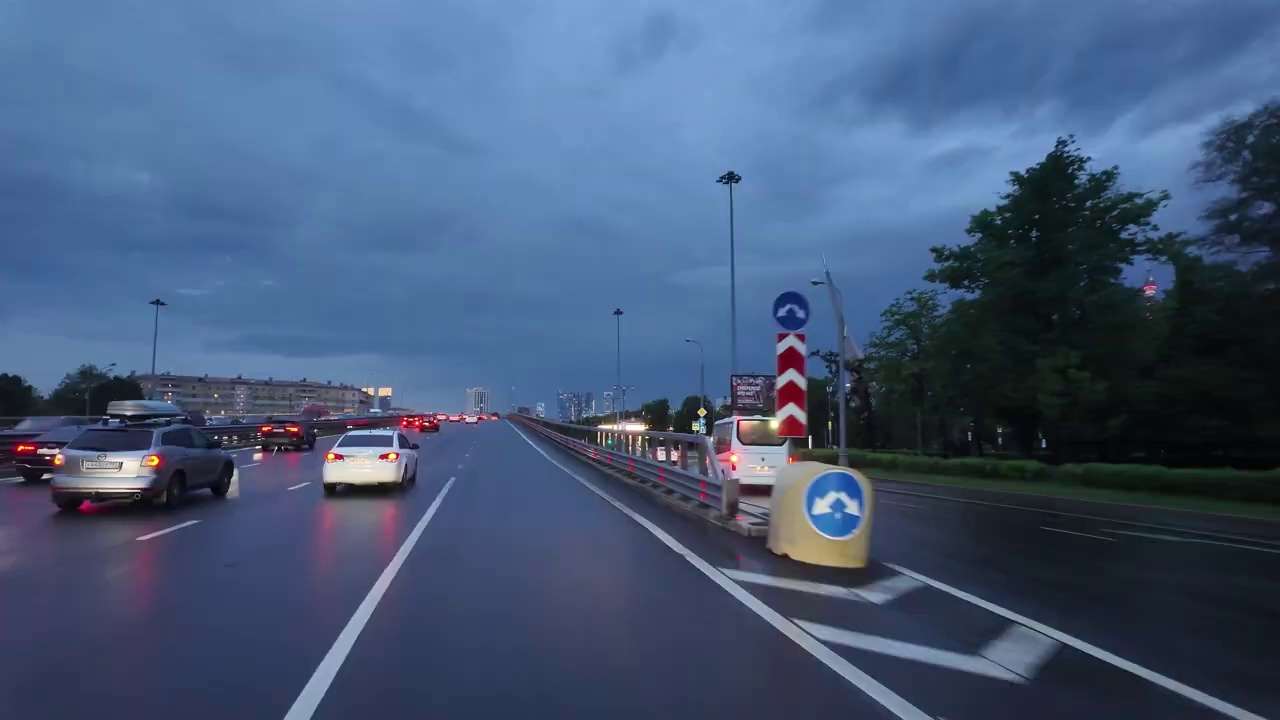apagada: (713, 165, 744, 193), (146, 293, 169, 314), (607, 303, 628, 326)
